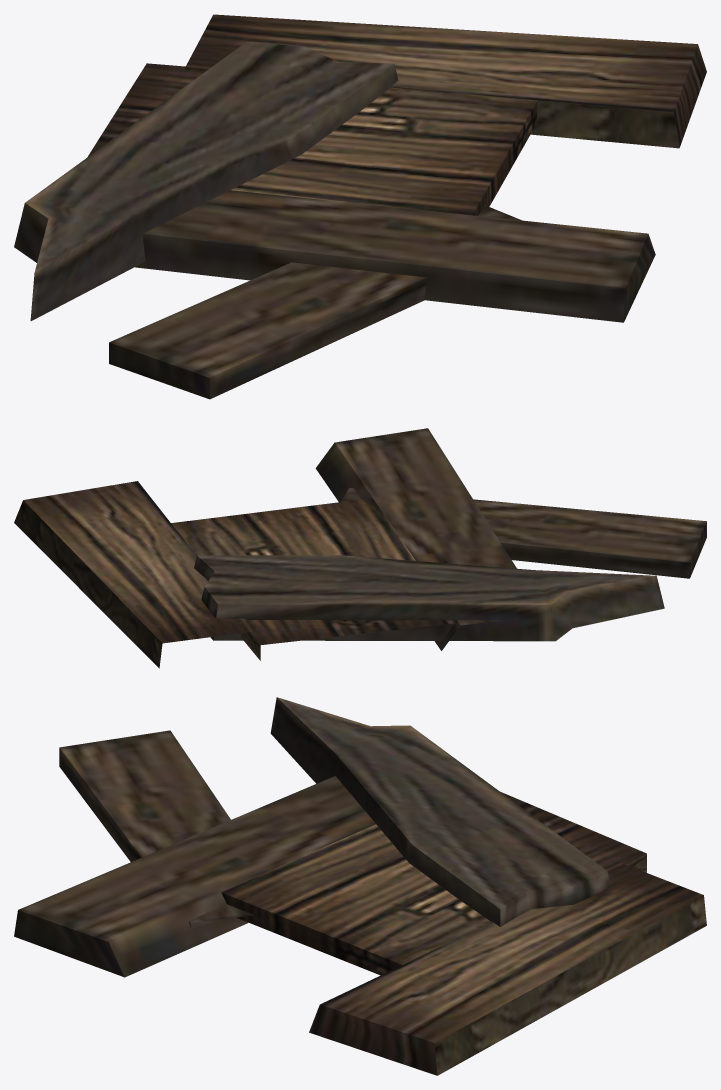
File: Treasure_Wood_05.FBX
The picture shows the model from 3 angles, top to bottom: view 1: azimuth 30°, elevation 25°; view 2: azimuth 150°, elevation 25°; view 3: azimuth 270°, elevation 25°; orthographic projection. The views are drawn at different scales.
Visible parts, largest first — view 1: Treasure_Wood_05; view 2: Treasure_Wood_05; view 3: Treasure_Wood_05.
Boxes of the visible parts, bbox=[...] form: Treasure_Wood_05: bbox=[14, 14, 706, 399]; Treasure_Wood_05: bbox=[14, 428, 706, 668]; Treasure_Wood_05: bbox=[14, 697, 706, 1075].
Size of the model in its own units: 2.4 by 0.1519 by 2.08.
